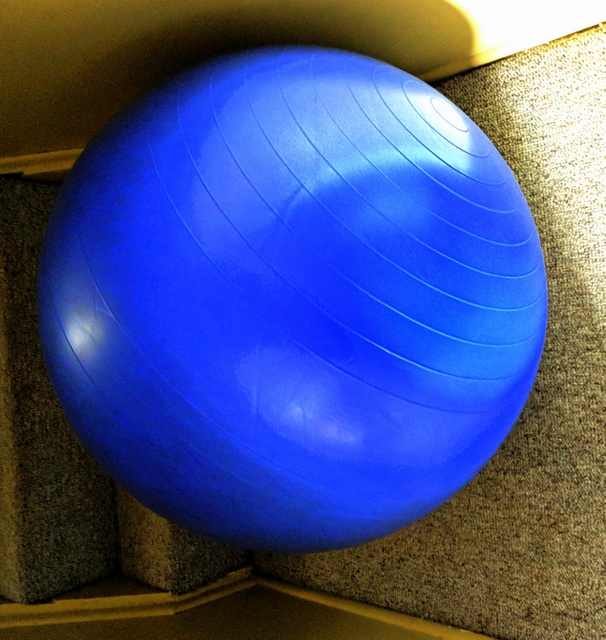ball: (35, 41, 555, 555)
